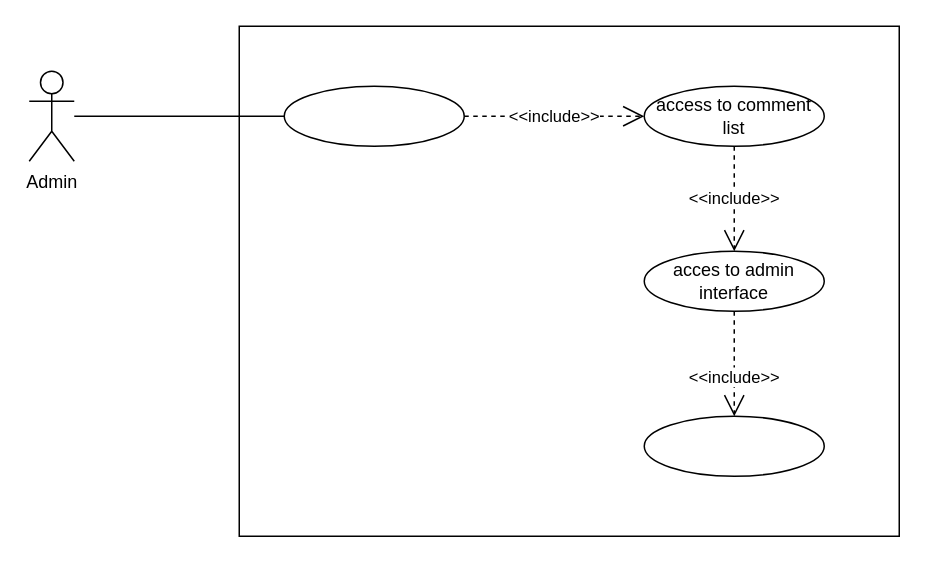
Some shapes in this 926 by 563 pixel diagram are drawn without their labels. Here are the shapes that lost their labels. From the top down, the box of each, then its label:
(283, 85, 464, 146): approve a comment
(643, 415, 824, 476): Authentification
